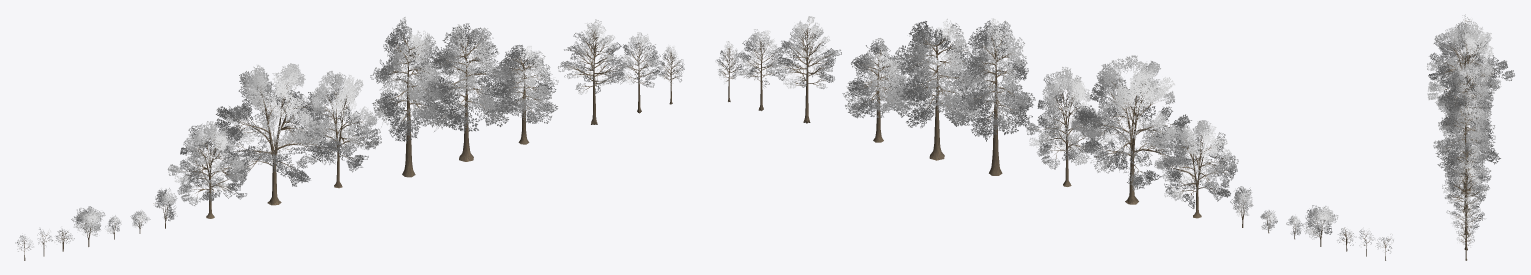
File: New_Branched_Trees_1A1.fbx
The picture shows the model from 3 angles, left to right: view 1: azimuth 30°, elevation 25°; view 2: azimuth 150°, elevation 25°; view 3: azimuth 270°, elevation 25°; orthographic projection. The views are drawn at different scales.
Visible parts, largest first — view 1: leaves.013, leaves.004, leaves.003, leaves.014, leaves.012, leaves.005, leaves.002, leaves.006, Branched_Tree_1A2, leaves.011, Branched_Tree_1C1, Branched_Tree_1B1 (+6 smaller); view 2: leaves.013, leaves.004, leaves.003, leaves.012, leaves.014, leaves.005, leaves.002, leaves.006, Branched_Tree_1A2, leaves.011, Branched_Tree_1B1, Branched_Tree_1C1 (+7 smaller); view 3: leaves.013, leaves.004, leaves.003, leaves.005, leaves.002, leaves.014, leaves.006, leaves.012, Branched_Tree_1A2, Branched_Tree_1C1, leaves.007, Branched_Tree_1B2 (+6 smaller).
Part boxes in pixels (<box>): leaves.013: <box>211,63,341,187</box>; leaves.004: <box>422,23,512,131</box>; leaves.003: <box>370,17,445,141</box>; leaves.014: <box>298,71,381,172</box>; leaves.012: <box>167,121,248,205</box>; leaves.005: <box>491,45,558,123</box>; leaves.002: <box>558,19,630,94</box>; leaves.006: <box>613,32,662,87</box>; Branched_Tree_1A2: <box>229,85,322,205</box>; leaves.011: <box>71,206,105,236</box>; Branched_Tree_1C1: <box>568,30,620,124</box>; Branched_Tree_1B1: <box>386,36,431,171</box>; leaves.013: <box>1071,55,1198,190</box>; leaves.004: <box>890,18,984,127</box>; leaves.003: <box>959,18,1035,141</box>; leaves.012: <box>1154,120,1238,208</box>; leaves.014: <box>1025,67,1102,169</box>; leaves.005: <box>842,38,910,118</box>; leaves.002: <box>773,16,841,89</box>; leaves.006: <box>734,29,786,88</box>; Branched_Tree_1A2: <box>1094,79,1176,204</box>; leaves.011: <box>1301,205,1338,239</box>; Branched_Tree_1B1: <box>974,32,1014,175</box>; Branched_Tree_1C1: <box>782,24,831,123</box>; leaves.013: <box>1427,21,1514,109</box>; leaves.004: <box>1433,92,1500,171</box>; leaves.003: <box>1438,63,1493,146</box>; leaves.005: <box>1442,141,1491,197</box>; leaves.002: <box>1444,161,1489,215</box>; leaves.014: <box>1436,63,1492,131</box>; leaves.006: <box>1446,192,1484,234</box>; leaves.012: <box>1439,36,1496,88</box>; Branched_Tree_1A2: <box>1437,33,1497,125</box>; Branched_Tree_1C1: <box>1452,167,1479,234</box>; leaves.007: <box>1456,218,1474,247</box>; Branched_Tree_1B2: <box>1440,105,1480,192</box>.
Bounding box in the file's own units: 10467 × 2356 × 1733.
